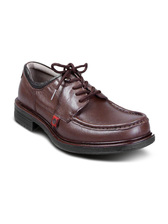shoesd: (10, 62, 161, 158)
